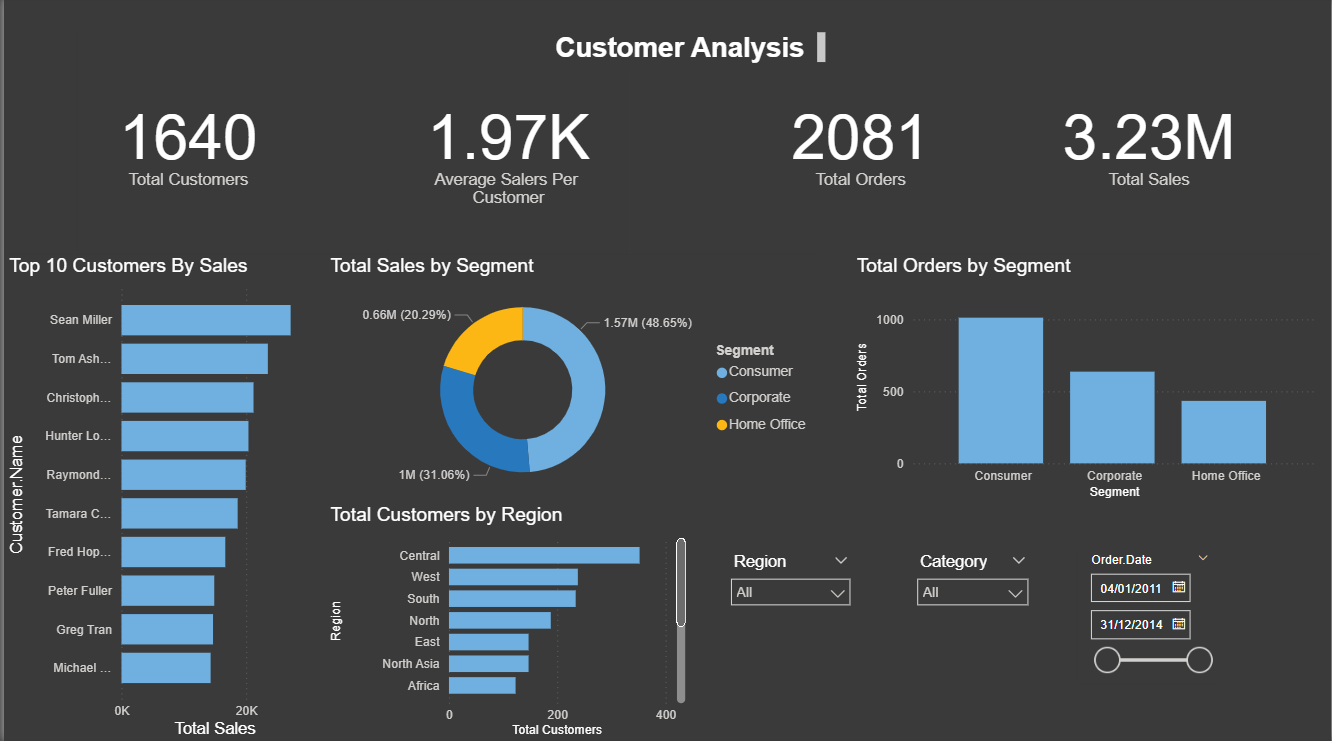

What the dashboard file says about the page in this screenshot:
{"tool":"powerbi","page":{"name":"Customer Analysis","canvas":[1280,720],"ordinal":2},"visuals":[{"type":"card","fields":{"Values":["Measures (2).Average Salers Per Customer"]},"box":[370.5,30.2,233.3,219.6],"z":0},{"type":"card","fields":{"Values":["Measures (2).Total Customers"]},"box":[71.4,30.2,214.1,219.6],"z":1000},{"type":"card","fields":{"Values":["Measures (2).Total Orders"]},"box":[702.6,30.2,249.7,219.6],"z":2000},{"type":"card","fields":{"Values":["Measures (2).Total Sales"]},"box":[999,30.2,212.7,219.6],"z":3000},{"type":"clusteredBarChart","title":"Top 10 Customers By Sales","fields":{"Category":["superstore.Customer.Name"],"Y":["Measures (2).Total Sales"]},"box":[0,249.7,310.1,470.7],"z":4000},{"type":"donutChart","fields":{"Category":["superstore.Segment"],"Y":["Measures (2).Total Sales"]},"box":[310.1,249.7,477.5,240.1],"z":5000},{"type":"barChart","fields":{"Category":["superstore.Region"],"Y":["Measures (2).Total Customers"]},"box":[310.1,489.9,352.7,230.5],"z":6000},{"type":"columnChart","fields":{"Y":["Measures (2).Total Orders"],"Category":["superstore.Segment"]},"box":[817.8,249.7,452.8,240.1],"z":7000},{"type":"slicer","fields":{"Values":["superstore.Region"]},"box":[691.6,532.4,135.8,145.5],"z":8000},{"type":"slicer","fields":{"Values":["superstore.Category"]},"box":[871.4,532.4,127.6,145.5],"z":9000},{"type":"slicer","fields":{"Values":["superstore.Order.Date"]},"box":[1036,532.4,138.6,131.7],"z":10000},{"type":"textbox","box":[526.9,30.2,270.3,39.8],"z":11000}]}

Visuals, with their boxes in screenshot pixels (x1, y1, x2, y2), scaled from the page's 1280x720 canvas onto the 1332x741 screenshot:
card - Measures (2).Average Salers Per Customer: l=386, t=31, r=628, b=257
card - Measures (2).Total Customers: l=74, t=31, r=297, b=257
card - Measures (2).Total Orders: l=731, t=31, r=991, b=257
card - Measures (2).Total Sales: l=1040, t=31, r=1261, b=257
"Top 10 Customers By Sales" clusteredBarChart: l=0, t=257, r=323, b=740
donutChart - superstore.Segment x Measures (2).Total Sales: l=323, t=257, r=820, b=504
barChart - superstore.Region x Measures (2).Total Customers: l=323, t=504, r=690, b=740
columnChart - Measures (2).Total Orders x superstore.Segment: l=851, t=257, r=1322, b=504
slicer - superstore.Region: l=720, t=548, r=861, b=698
slicer - superstore.Category: l=907, t=548, r=1040, b=698
slicer - superstore.Order.Date: l=1078, t=548, r=1222, b=683
textbox: l=548, t=31, r=830, b=72
